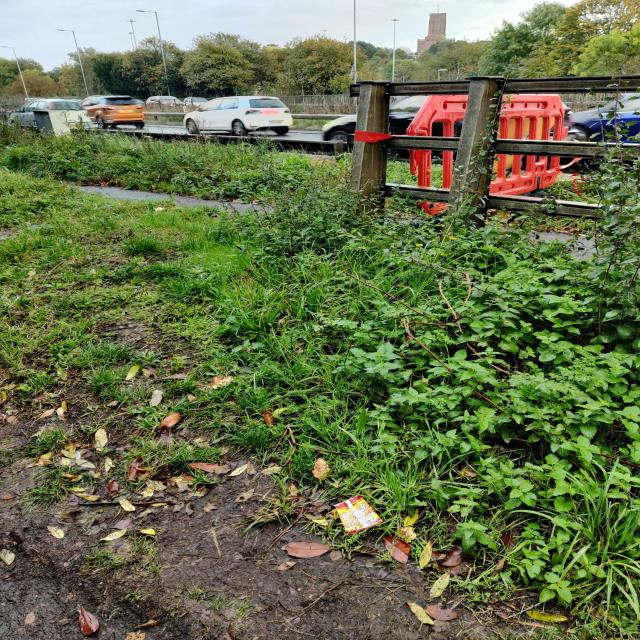litter: (335, 496, 381, 536)
